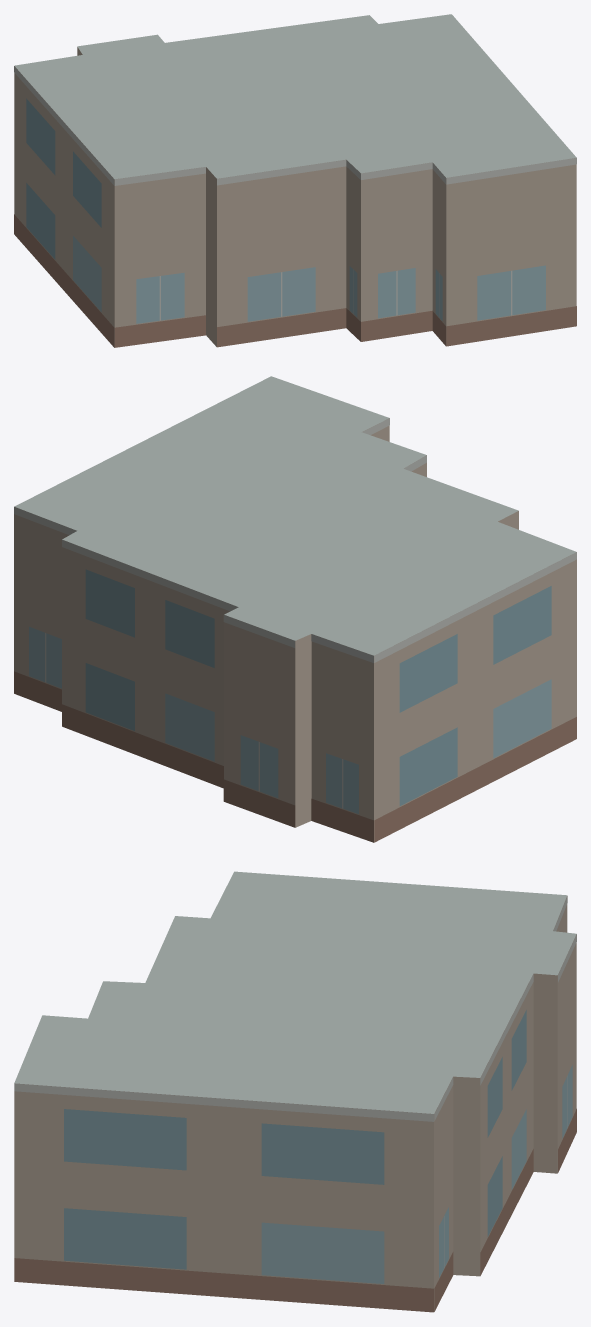
The model's file is survey-upis-33019532.glb.
3 renders of one model, top to bottom at view 1: azimuth 30°, elevation 25°; view 2: azimuth 150°, elevation 25°; view 3: azimuth 270°, elevation 25°, orthographic. The views are drawn at different scales.
Visible parts, largest first — view 1: survey-upis-33019532.tmp; view 2: survey-upis-33019532.tmp; view 3: survey-upis-33019532.tmp.
Part boxes in pixels (bbox=[...]): survey-upis-33019532.tmp: bbox=[14, 14, 576, 347]; survey-upis-33019532.tmp: bbox=[14, 376, 576, 842]; survey-upis-33019532.tmp: bbox=[14, 871, 576, 1312].
Bounding box in the file's own units: 16 × 6.1 × 15.69.
